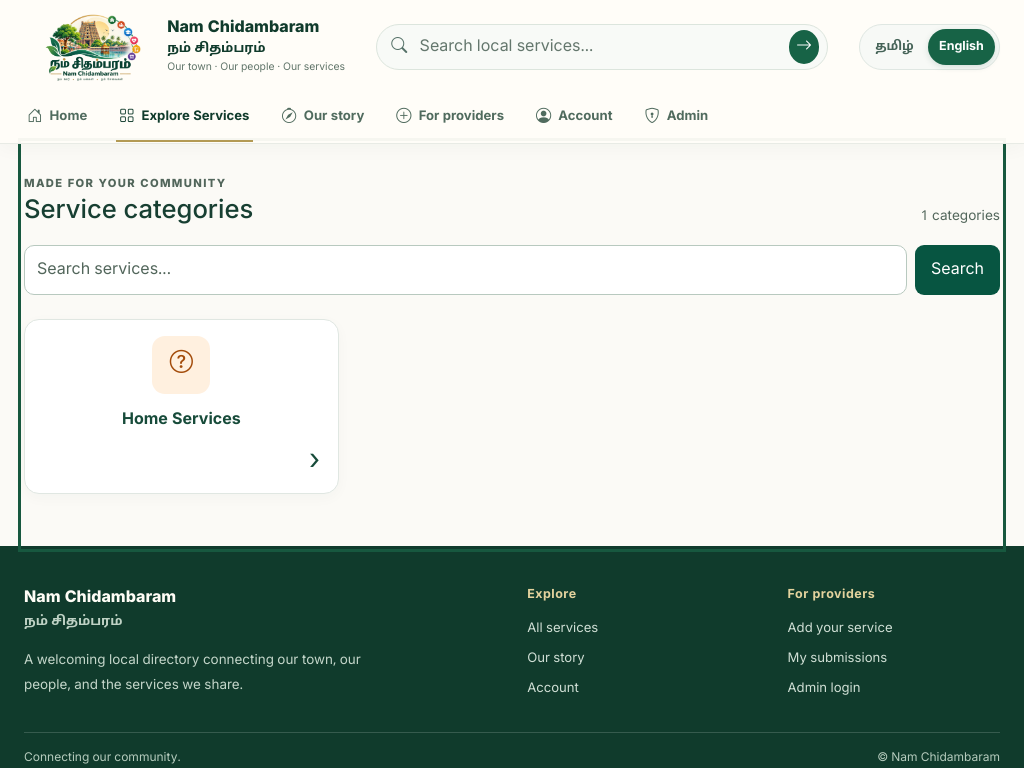
Test: Home and Services navigation › renders nested categories and switches language on Services
Click the link "Home Services ›": (181, 365) [24,319,339,494]
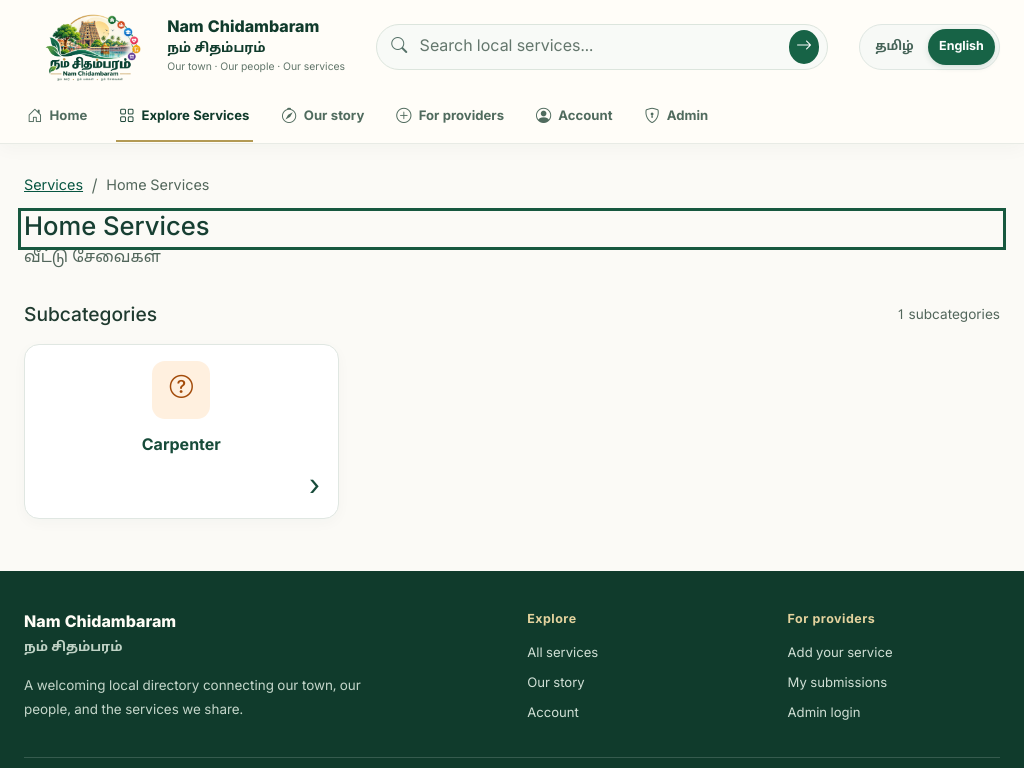
Expected: the text "Home Services" is shown, [106,176,209,198]
Expected: the text "Carpenter" is shown, [142,434,221,459]
Click the button "தமிழ்": (894, 47) [864,29,925,65]
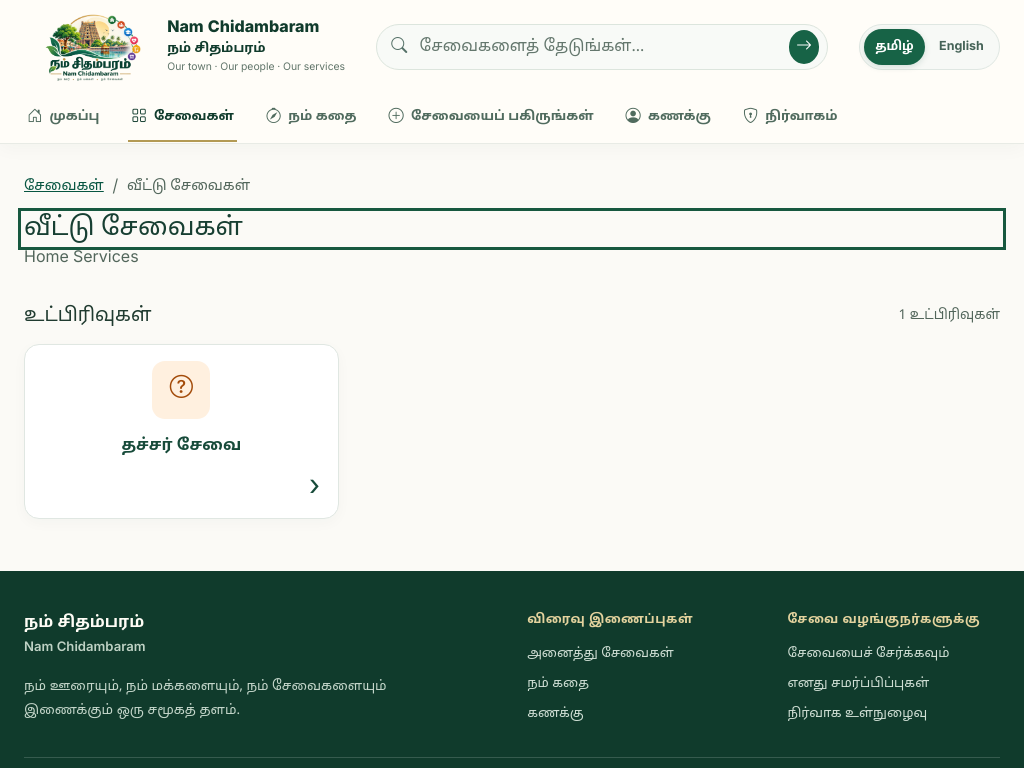
Expected: the text "வீட்டு சேவைகள்" is shown, [127,176,250,198]
